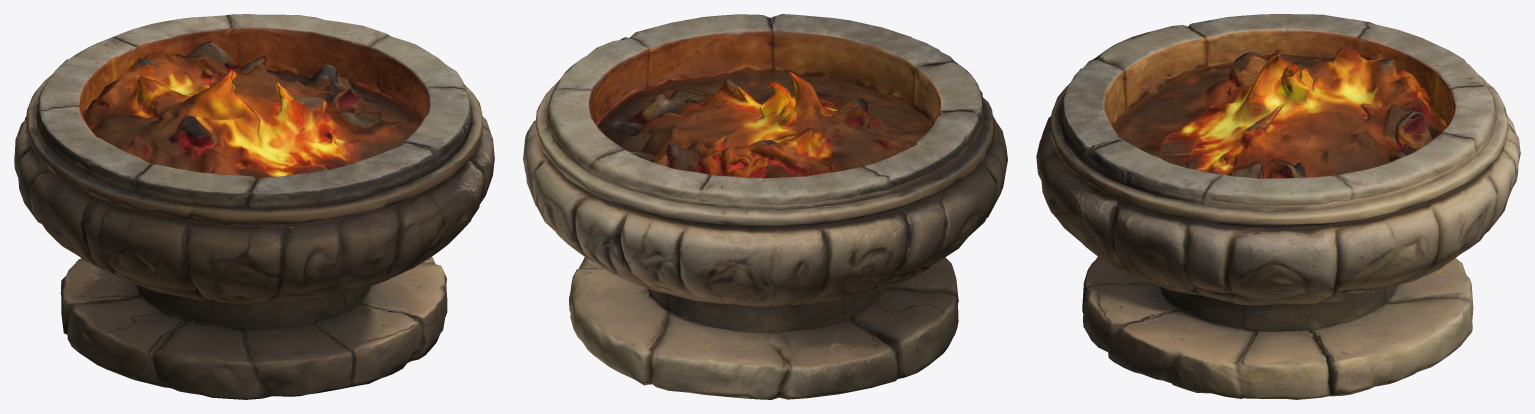
File: brazier.glb
The picture shows the model from 3 angles, left to right: view 1: azimuth 30°, elevation 25°; view 2: azimuth 150°, elevation 25°; view 3: azimuth 270°, elevation 25°; orthographic projection.
Bounding box in the file's own units: 1.99 × 1.17 × 2.
1 material, 1 textured.
